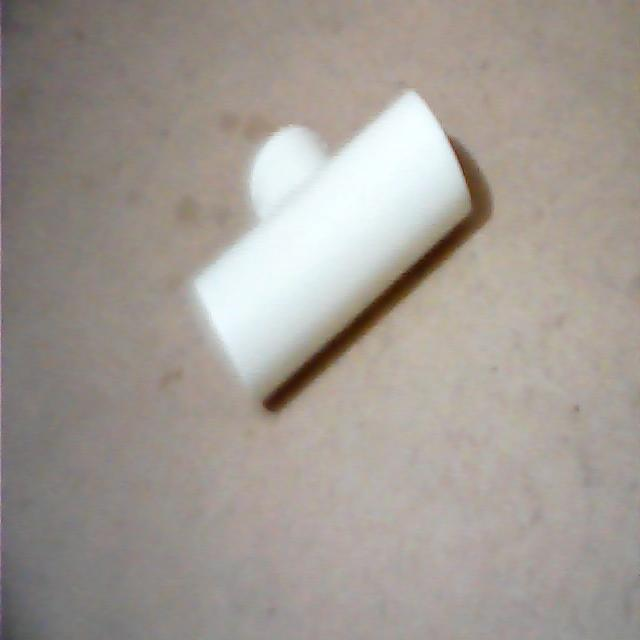T Joint: (187, 90, 477, 414)
